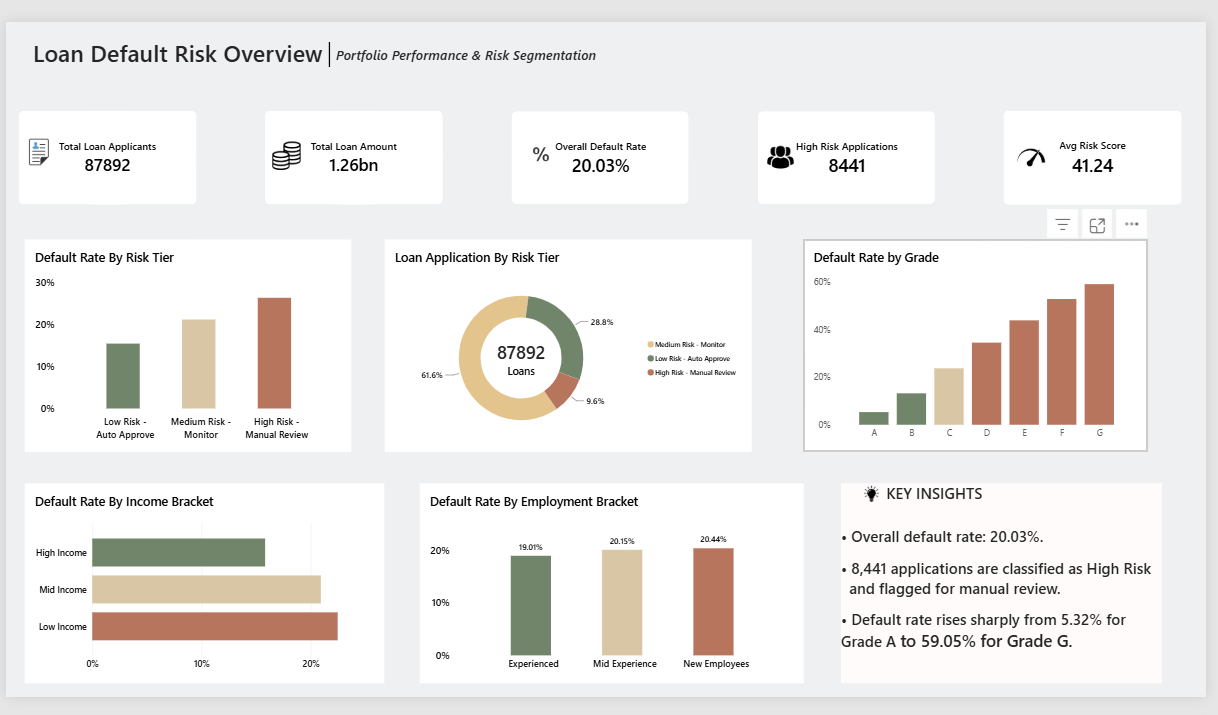

The dashboard page shown, as its layout file describes it:
{"tool":"powerbi","page":{"name":" Overview","canvas":[1920,1080],"ordinal":0},"visuals":[{"type":"textbox","box":[30,24.4,490,60],"z":0},{"type":"cardVisual","fields":{"Data":["CountNonNull(public loan_final.loan_amnt)"]},"box":[20,142.5,285,150],"z":0,"group":"g1"},{"type":"cardVisual","fields":{"Data":["Avg(public loan_final.risk_score)"]},"box":[1595,141.2,285,150],"z":1000,"group":"g5"},{"type":"group","id":"g1","title":"Group 1","box":[20,142.5,285,150],"z":1000},{"type":"image","box":[29.5,175,45.6,68.1],"z":1000,"group":"g1"},{"type":"group","id":"g2","title":"Group 2","box":[413.6,141.2,285.6,150],"z":2000},{"type":"image","box":[1610.7,185.2,57.1,61.4],"z":2000,"group":"g5"},{"type":"cardVisual","fields":{"Data":["Sum(public loan_final.loan_amnt)"]},"box":[413.6,141.2,285,150],"z":3000,"group":"g2"},{"type":"group","id":"g3","title":"Group 3","box":[807.8,142.5,285,150],"z":3000},{"type":"group","id":"g4","title":"Group 4","box":[1201.4,141.2,285,150],"z":4000},{"type":"image","box":[425.3,178.8,45.6,67.5],"z":4000,"group":"g2"},{"type":"group","id":"g5","title":"Group 5","box":[1595,141.2,285,150],"z":5000},{"type":"cardVisual","fields":{"Data":["public loan_final.Overall Default Rate"]},"box":[807.8,142.5,285,150],"z":5000,"group":"g3"},{"type":"image","box":[838.3,193,36,39],"z":6000,"group":"g3"},{"type":"clusteredColumnChart","title":"Default Rate By Risk Tier","fields":{"Category":["public loan_final.risk_tier"],"Y":["public loan_final.Overall Default Rate"]},"box":[30,348,522,340],"z":6000},{"type":"cardVisual","fields":{"Data":["public loan_final.High Risk Applications"]},"box":[1201.4,141.2,285,150],"z":7000,"group":"g4"},{"type":"donutChart","title":"Loan Application By Risk Tier","fields":{"Y":["CountNonNull(public loan_final.loan_amnt)"],"Category":["public loan_final.risk_tier"]},"box":[605.7,348.6,587.1,340],"z":7000},{"type":"image","box":[1218.3,182.2,42.2,64.5],"z":8000,"group":"g4"},{"type":"clusteredColumnChart","title":"Default Rate by Grade","fields":{"Category":["public loan_final.grade"],"Y":["public loan_final.Overall Default Rate"]},"box":[1275,347.5,550,340],"z":8000},{"type":"clusteredBarChart","title":"Default Rate By Income Bracket","fields":{"Category":["public loan_final.income_bracket"],"Y":["public loan_final.Overall Default Rate"]},"box":[30,737.5,575,320],"z":9000},{"type":"clusteredColumnChart","title":"Default Rate By Employment Bracket","fields":{"Category":["public loan_final.emp_bracket"],"Y":["public loan_final.Overall Default Rate"]},"box":[661.7,738.3,614.4,320],"z":10000},{"type":"textbox","box":[1336.7,738.3,513.3,320],"z":11000,"group":"g6"},{"type":"image","box":[1360.5,741.7,49.1,25.7],"z":12000,"group":"g6"},{"type":"group","id":"g6","title":"Group 6","box":[1336.7,738.3,513.3,320],"z":12001},{"type":"shape","box":[510,31,15,40],"z":12002},{"type":"textbox","box":[527.9,37.9,422.5,32.5],"z":12003}]}

Visuals, with their boxes on the page's 1920x1080 design canvas (x1, y1, x2, y2). These are canvas units, not pixel positions in the 1218x715 screenshot, which may show the page scaled, cropped or inside an application window:
textbox: [left=30, top=24, right=520, bottom=84]
cardVisual - CountNonNull(public loan_final.loan_amnt): [left=20, top=142, right=305, bottom=292]
cardVisual - Avg(public loan_final.risk_score): [left=1595, top=141, right=1880, bottom=291]
"Group 1" group: [left=20, top=142, right=305, bottom=292]
image: [left=30, top=175, right=75, bottom=243]
"Group 2" group: [left=414, top=141, right=699, bottom=291]
image: [left=1611, top=185, right=1668, bottom=247]
cardVisual - Sum(public loan_final.loan_amnt): [left=414, top=141, right=699, bottom=291]
"Group 3" group: [left=808, top=142, right=1093, bottom=292]
"Group 4" group: [left=1201, top=141, right=1486, bottom=291]
image: [left=425, top=179, right=471, bottom=246]
"Group 5" group: [left=1595, top=141, right=1880, bottom=291]
cardVisual - public loan_final.Overall Default Rate: [left=808, top=142, right=1093, bottom=292]
image: [left=838, top=193, right=874, bottom=232]
"Default Rate By Risk Tier" clusteredColumnChart: [left=30, top=348, right=552, bottom=688]
cardVisual - public loan_final.High Risk Applications: [left=1201, top=141, right=1486, bottom=291]
"Loan Application By Risk Tier" donutChart: [left=606, top=349, right=1193, bottom=689]
image: [left=1218, top=182, right=1260, bottom=247]
"Default Rate by Grade" clusteredColumnChart: [left=1275, top=348, right=1825, bottom=688]
"Default Rate By Income Bracket" clusteredBarChart: [left=30, top=738, right=605, bottom=1058]
"Default Rate By Employment Bracket" clusteredColumnChart: [left=662, top=738, right=1276, bottom=1058]
textbox: [left=1337, top=738, right=1850, bottom=1058]
image: [left=1360, top=742, right=1410, bottom=767]
"Group 6" group: [left=1337, top=738, right=1850, bottom=1058]
shape: [left=510, top=31, right=525, bottom=71]
textbox: [left=528, top=38, right=950, bottom=70]
